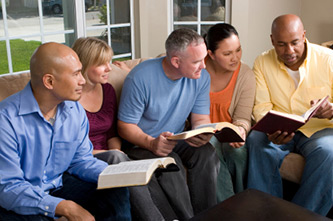Person: (125, 37, 209, 201), (11, 39, 84, 221), (258, 14, 333, 191), (211, 18, 262, 201), (78, 46, 120, 165)
